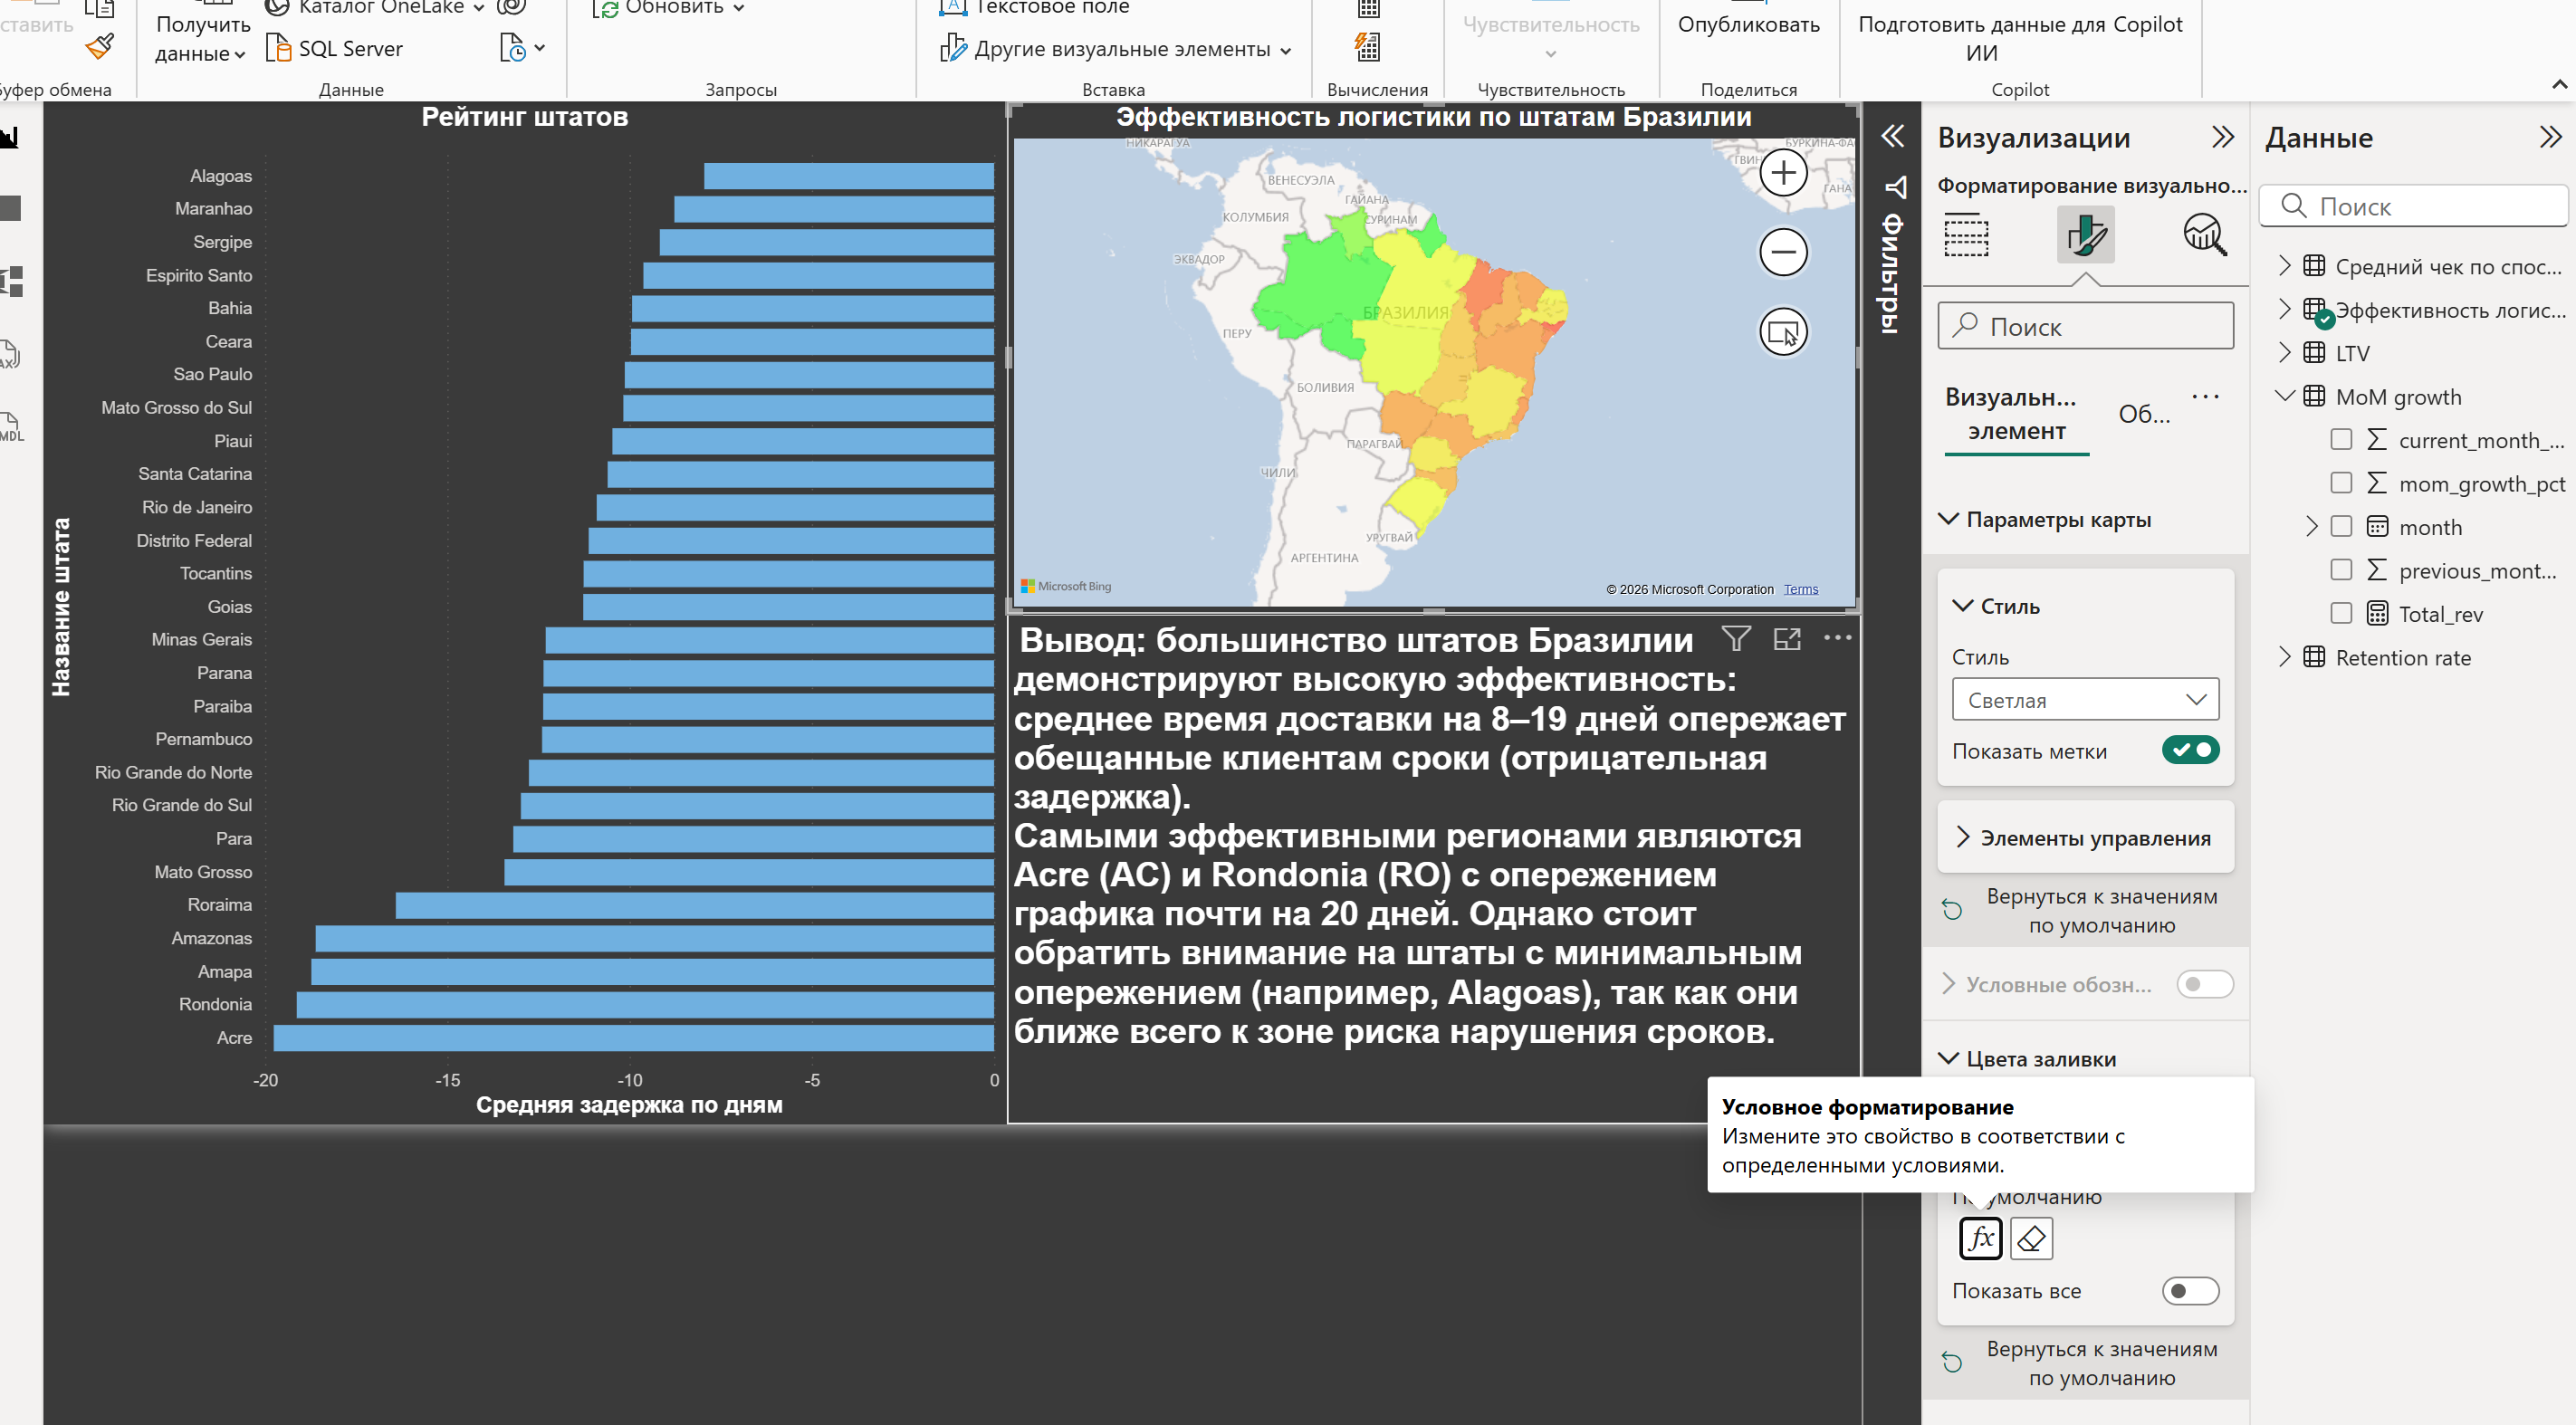

This screenshot's page, from the dashboard's own definition file:
{"tool":"powerbi","page":{"name":"Логистика","canvas":[1280,720],"ordinal":1},"visuals":[{"type":"filledMap","title":"Эффективность логистики по штатам Бразилии","fields":{"Category":["Эффективность логистики.State_Full_Name"]},"box":[678.2,0,601.8,360.8],"z":0},{"type":"clusteredBarChart","title":"Рейтинг штатов","fields":{"Category":["Эффективность логистики.State_Full_Name"],"Y":["Sum(Эффективность логистики.avg_delay_days)"]},"box":[0,0,678.2,720.3],"z":1000},{"type":"textbox","box":[678,361,602,359],"z":2000}]}

Visuals, with their boxes on the page's 1280x720 design canvas (x1, y1, x2, y2). These are canvas units, not pixel positions in the 2576x1425 screenshot, which may show the page scaled, cropped or inside an application window:
"Эффективность логистики по штатам Бразилии" filledMap: (left=678, top=0, right=1280, bottom=361)
"Рейтинг штатов" clusteredBarChart: (left=0, top=0, right=678, bottom=720)
textbox: (left=678, top=361, right=1280, bottom=720)
